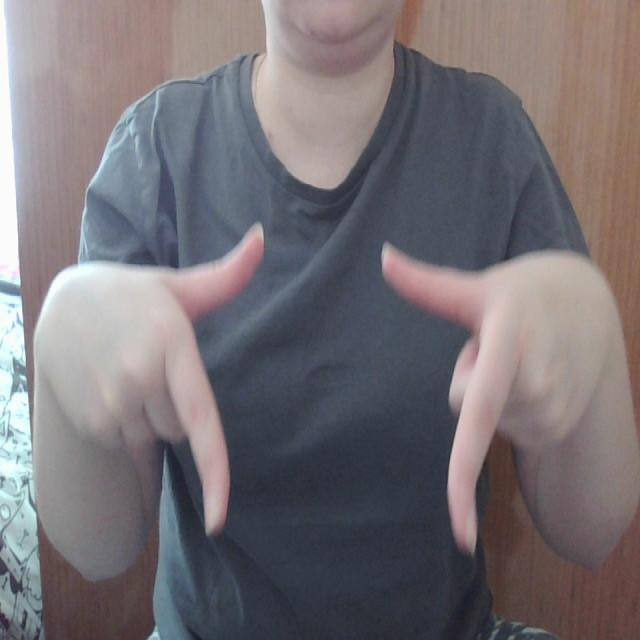Nerede: (150, 215, 528, 561)
